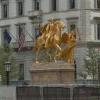Statue: (19, 18, 85, 62)
